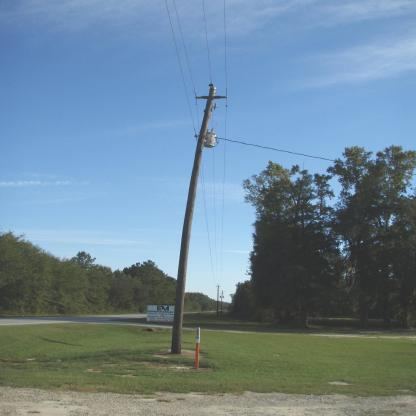Electrical Pole: (156, 80, 234, 358)
